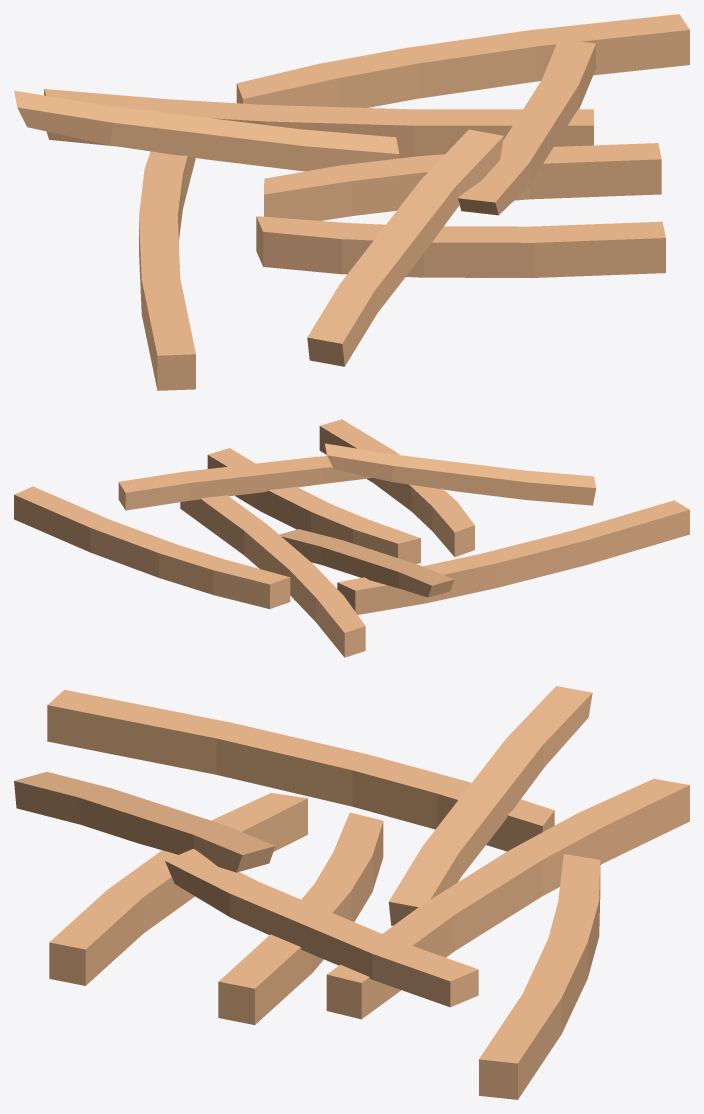
The model's file is French fries.gltf.
The picture shows the model from 3 angles, top to bottom: view 1: azimuth 30°, elevation 25°; view 2: azimuth 150°, elevation 25°; view 3: azimuth 270°, elevation 25°; orthographic projection. The views are drawn at different scales.
Parts seen in each view (by area): view 1: node-0; view 2: node-0; view 3: node-0.
Boxes of the visible parts, bbox=[...] form: node-0: bbox=[14, 14, 689, 390]; node-0: bbox=[14, 419, 689, 657]; node-0: bbox=[14, 686, 689, 1099].
Size of the model in its own units: 2500417 by 279472 by 1906688.
